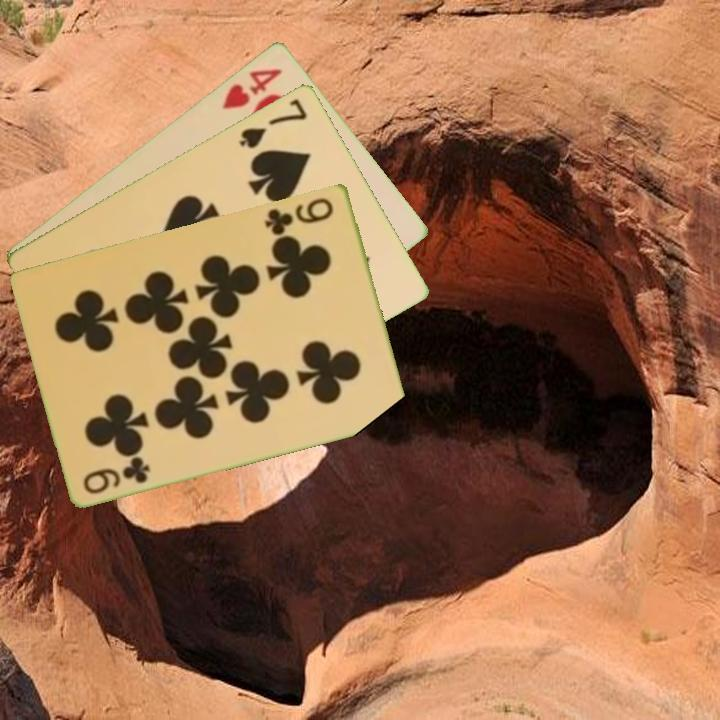4h: (218, 64, 286, 112)
7s: (235, 94, 310, 151)
9c: (261, 193, 337, 238), (80, 453, 153, 497)
